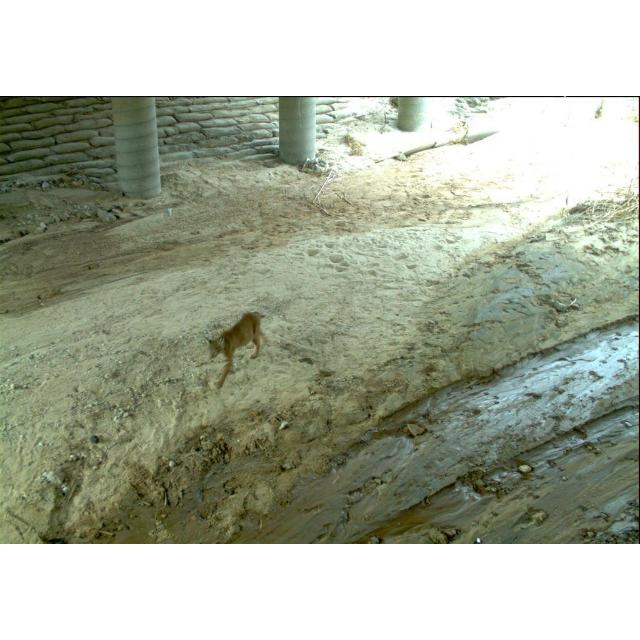animals: (207, 308, 270, 378)
